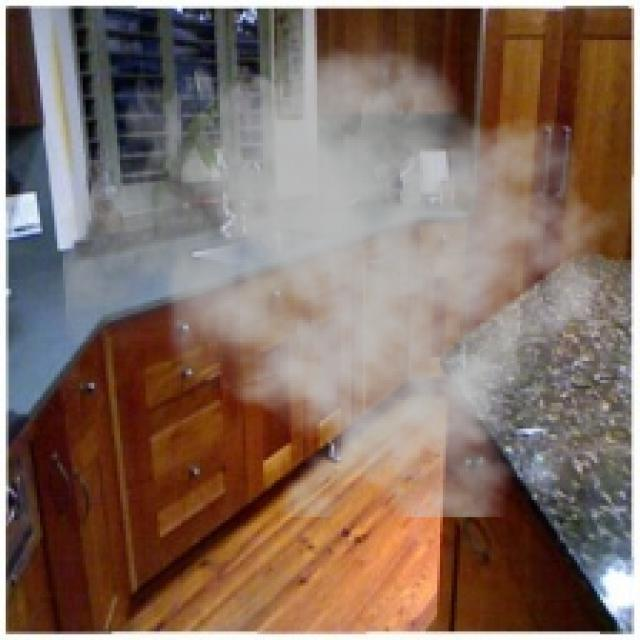Smoke: (60, 0, 623, 517)
